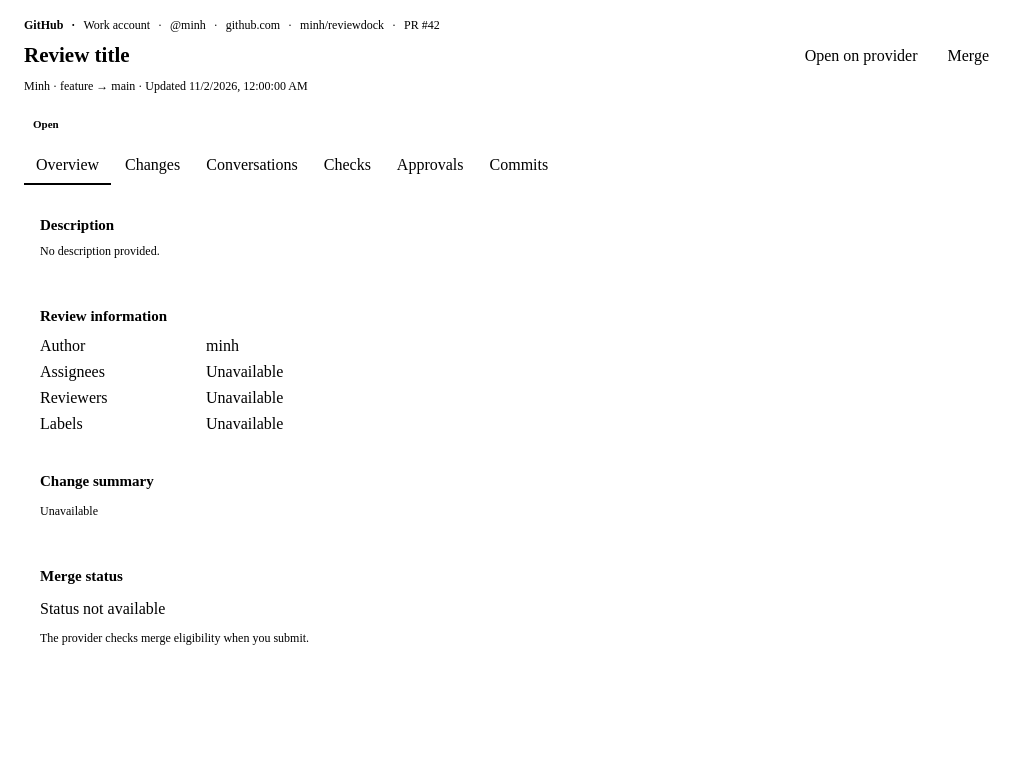
Test: ReviewDock webview entry point › does not offer Rich mode for non-Markdown files
Click the button "Changes" at (153, 165), box 113,145 -> 192,185
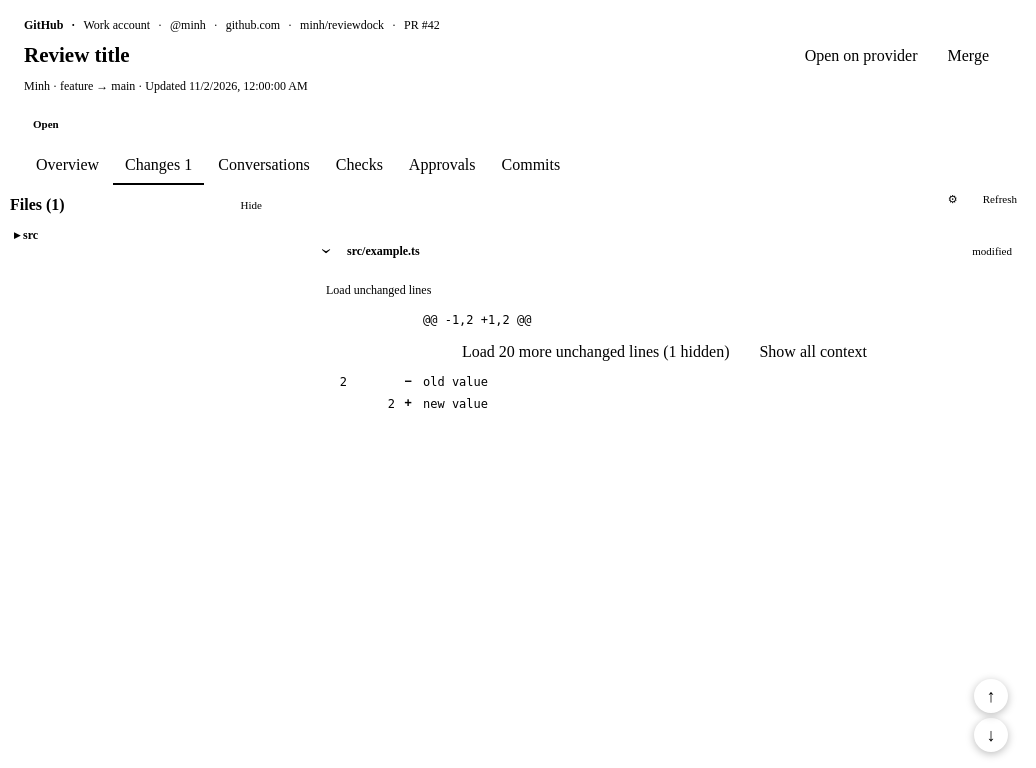
Check: the element with class "diff-row" showing "@@ -1,2 +1,2 @@" is shown, box 423,313 -> 531,327
